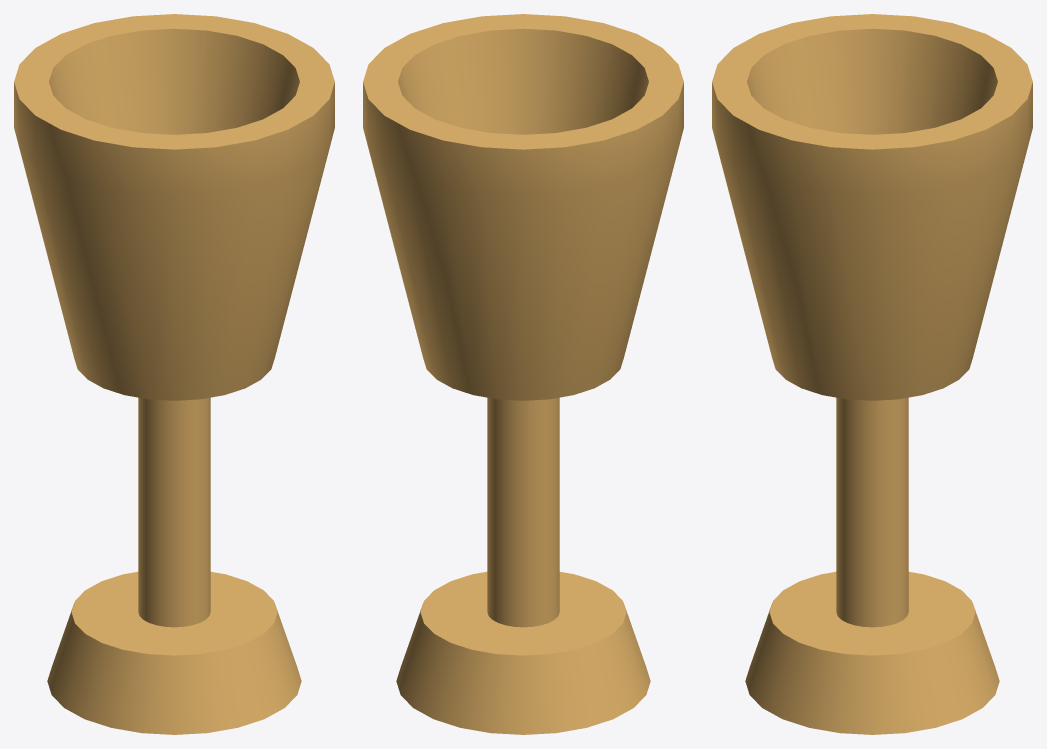
File: detailChalice.obj
3 renders of one model, left to right at view 1: azimuth 30°, elevation 25°; view 2: azimuth 150°, elevation 25°; view 3: azimuth 270°, elevation 25°, orthographic.
Parts seen in each view (by area): view 1: detailChalice; view 2: detailChalice; view 3: detailChalice.
Part boxes in pixels (x1,y1,x2,y2): detailChalice: (14,14,334,734); detailChalice: (363,14,683,734); detailChalice: (712,14,1032,734).
Bounding box in the file's own units: 0.0968 × 0.1995 × 0.0968.
